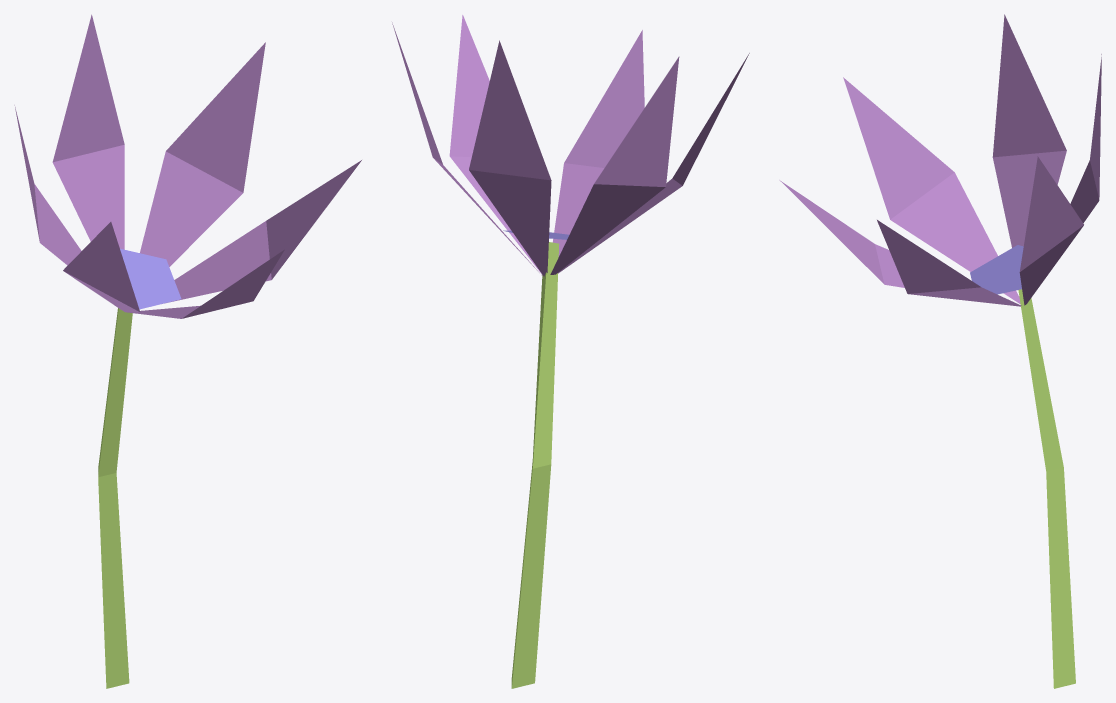
File: Flower_b_OneS_01.fbx
3 renders of one model, left to right at view 1: azimuth 30°, elevation 25°; view 2: azimuth 150°, elevation 25°; view 3: azimuth 270°, elevation 25°, orthographic. The views are drawn at different scales.
Parts seen in each view (by area): view 1: Flower_b_OneS_01; view 2: Flower_b_OneS_01; view 3: Flower_b_OneS_01.
Boxes of the visible parts, x1=… form: Flower_b_OneS_01: x1=14, y1=14, x2=361, y2=688; Flower_b_OneS_01: x1=392, y1=15, x2=749, y2=688; Flower_b_OneS_01: x1=779, y1=14, x2=1101, y2=688.
Bounding box in the file's own units: 19.04 × 42.26 × 19.64.
